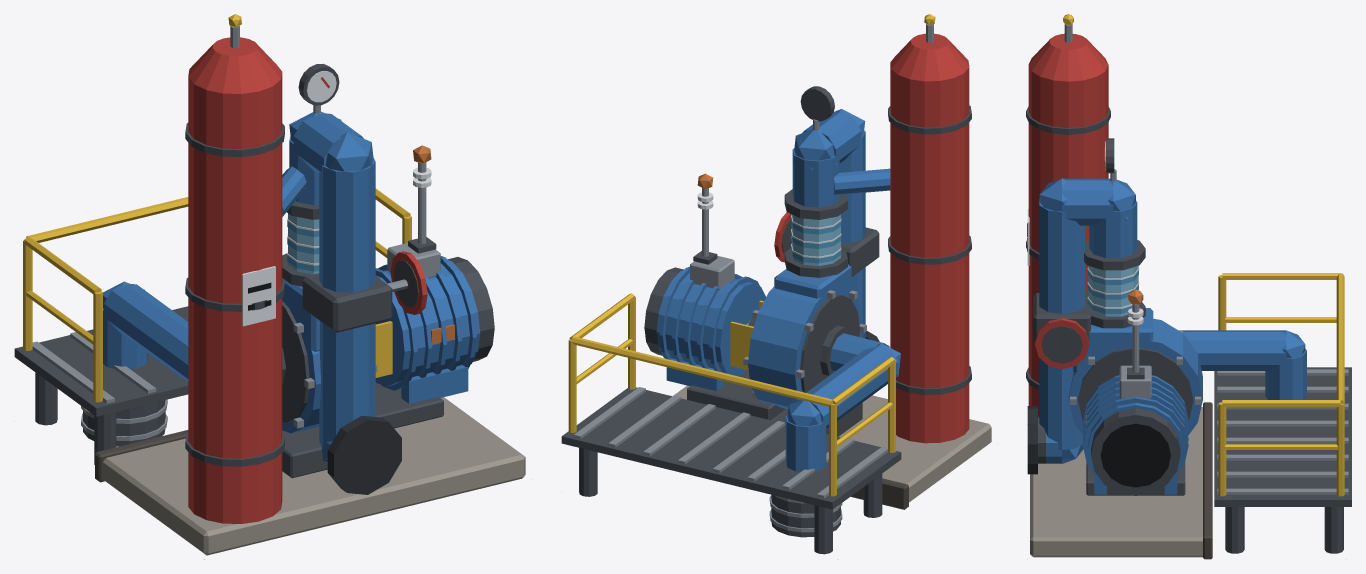
File: pompe_eau.glb
3 renders of one model, left to right at view 1: azimuth 30°, elevation 25°; view 2: azimuth 150°, elevation 25°; view 3: azimuth 270°, elevation 25°, orthographic. The views are drawn at different scales.
Visible parts, largest first — view 1: reservoir.002, pieces_bleu.002, pieces_beton.044, pieces_acier_sombre.044, pieces_jaune.008, pieces_fonte.002, moteur.002, pieces_acier.038, reservoir_dome.002, pieces_blanc.002, volute_joue.002, moteur_capot.002 (+7 smaller); view 2: reservoir.002, pieces_acier_sombre.044, pieces_bleu.002, pieces_jaune.008, pieces_acier.038, volute.002, pieces_beton.044, moteur.002, reservoir_dome.002, volute_joue.002, pieces_verre.002, crepine.002 (+4 smaller); view 3: pieces_bleu.002, pieces_acier_sombre.044, pieces_beton.044, reservoir.002, pieces_acier.038, pieces_jaune.008, pieces_noir.008, moteur_capot.002, volute_joue.002, reservoir_dome.002, volute.002, pieces_pierre_sombre.002 (+6 smaller).
Boxes of the visible parts, x1,y1,x2,y2 form: reservoir.002: (188, 72, 282, 523); pieces_bleu.002: (103, 111, 476, 462); pieces_beton.044: (103, 397, 525, 555); pieces_acier_sombre.044: (14, 122, 443, 478); pieces_jaune.008: (23, 14, 411, 402); pieces_fonte.002: (327, 415, 401, 494); moteur.002: (375, 260, 480, 386); pieces_acier.038: (32, 25, 440, 440); reservoir_dome.002: (188, 37, 282, 93); pieces_blanc.002: (242, 71, 431, 326); volute_joue.002: (282, 301, 309, 422); moteur_capot.002: (447, 257, 494, 361); reservoir.002: (890, 64, 969, 443); pieces_acier_sombre.044: (561, 105, 971, 554); pieces_bleu.002: (659, 109, 900, 471); pieces_jaune.008: (568, 14, 935, 496); pieces_acier.038: (573, 24, 933, 532); volute.002: (748, 286, 861, 409); pieces_beton.044: (674, 385, 991, 502); moteur.002: (656, 270, 765, 375); reservoir_dome.002: (890, 33, 969, 81); volute_joue.002: (800, 294, 859, 392); pieces_verre.002: (791, 214, 840, 265); crepine.002: (771, 494, 840, 537); pieces_bleu.002: (1039, 178, 1306, 494); pieces_acier_sombre.044: (1026, 106, 1351, 553); pieces_beton.044: (1030, 407, 1202, 557); reservoir.002: (1028, 65, 1108, 416); pieces_acier.038: (1064, 24, 1348, 494); pieces_jaune.008: (1063, 14, 1344, 496); pieces_noir.008: (1027, 223, 1170, 487); moteur_capot.002: (1091, 408, 1180, 495); volute_joue.002: (1078, 348, 1193, 420); reservoir_dome.002: (1028, 33, 1108, 81); volute.002: (1068, 318, 1202, 435); pieces_pierre_sombre.002: (1203, 402, 1212, 559).
Bounding box in the file's own units: 1 × 1.5 × 1.02.
